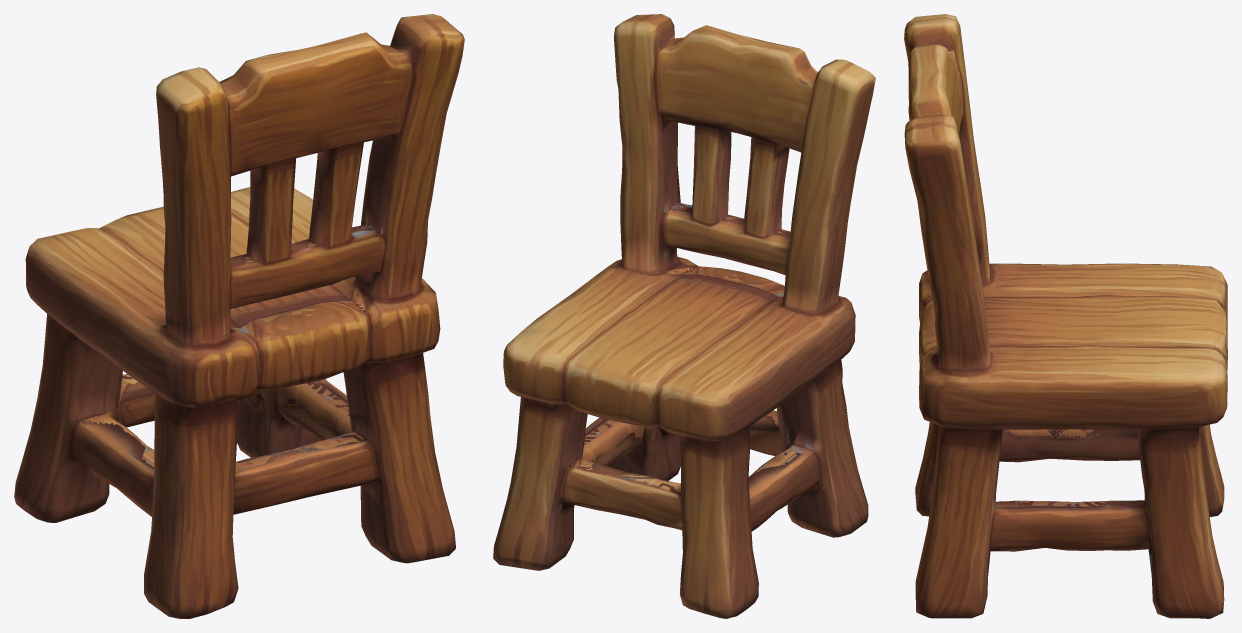
The model's file is SM_Env_Chair.fbx.
3 views of the same model, side by side, from view 1: azimuth 30°, elevation 25°; view 2: azimuth 150°, elevation 25°; view 3: azimuth 270°, elevation 25° (orthographic). The views are drawn at different scales.
Parts seen in each view (by area): view 1: SM_Env_Chair; view 2: SM_Env_Chair; view 3: SM_Env_Chair.
Boxes of the visible parts, x1=… form: SM_Env_Chair: x1=14, y1=14, x2=464, y2=618; SM_Env_Chair: x1=493, y1=14, x2=875, y2=618; SM_Env_Chair: x1=904, y1=14, x2=1227, y2=618.
Bounding box in the file's own units: 0.5354 × 0.95 × 0.5674.
